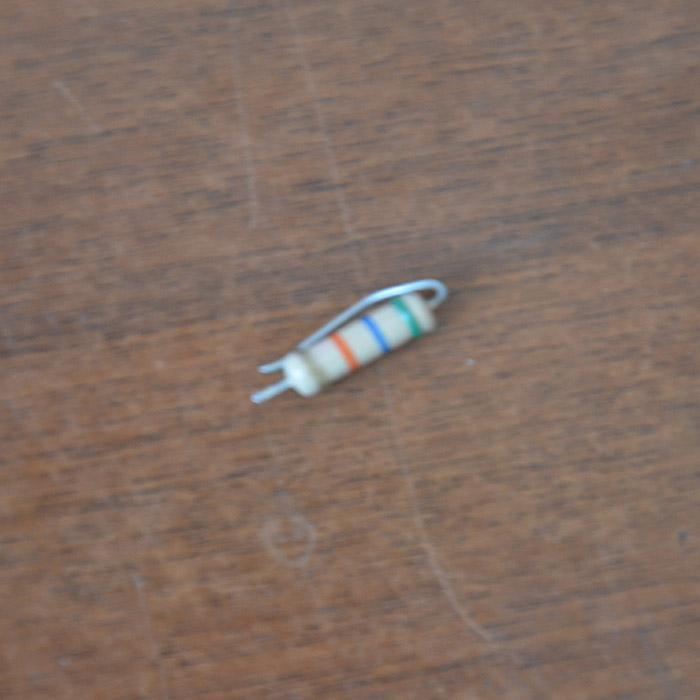resistor: (283, 289, 437, 399)
